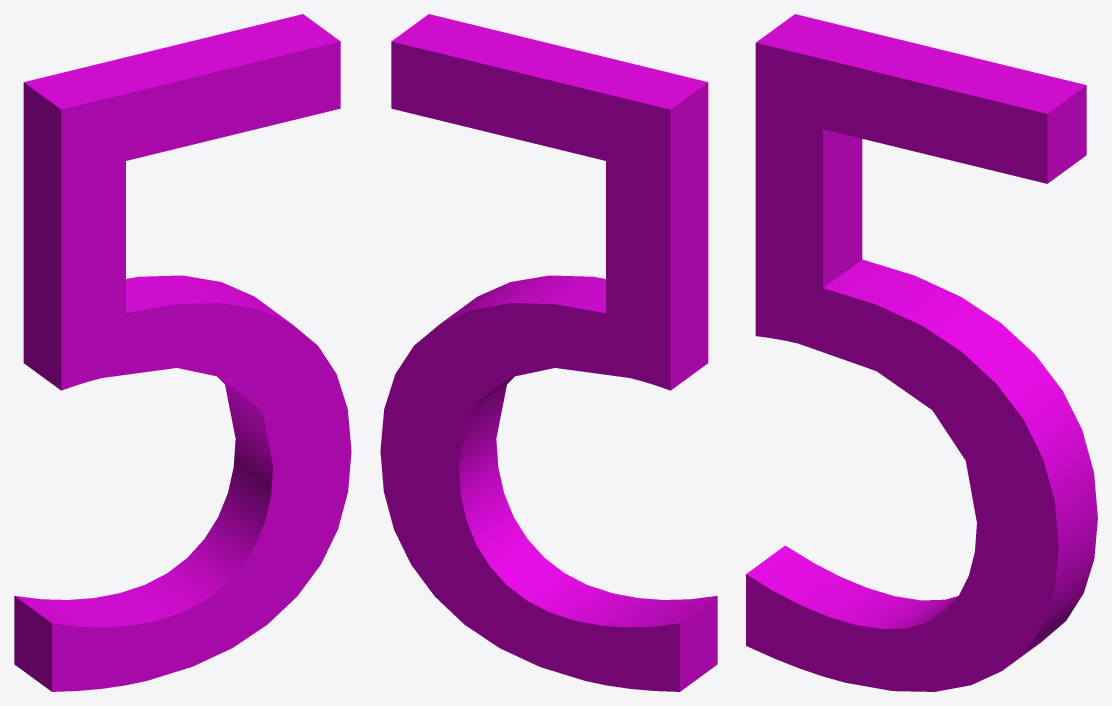
Rendered from beş.fbx.
3 renders of one model, left to right at view 1: azimuth 30°, elevation 25°; view 2: azimuth 150°, elevation 25°; view 3: azimuth 330°, elevation 25°, orthographic. The views are drawn at different scales.
Visible parts, largest first — view 1: typeMesh1; view 2: typeMesh1; view 3: typeMesh1.
Boxes of the visible parts, x1,y1,x2,y2 form: typeMesh1: (14, 14, 351, 691); typeMesh1: (380, 14, 717, 691); typeMesh1: (746, 14, 1097, 691).
Size of the model in its own units: 5.78 by 10.92 by 1.26.
